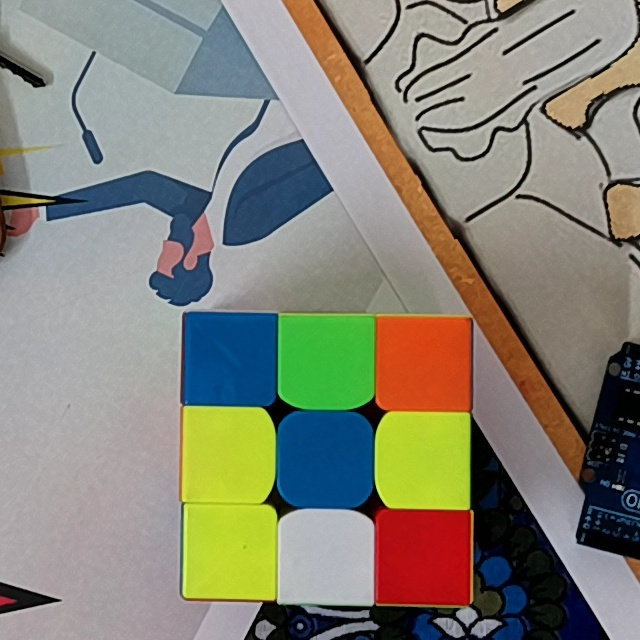tile: (383, 319, 468, 406), (382, 517, 466, 599), (384, 419, 467, 501), (284, 318, 368, 399), (190, 510, 272, 591), (285, 519, 367, 600), (191, 317, 269, 397), (190, 411, 264, 494), (286, 421, 363, 499)
